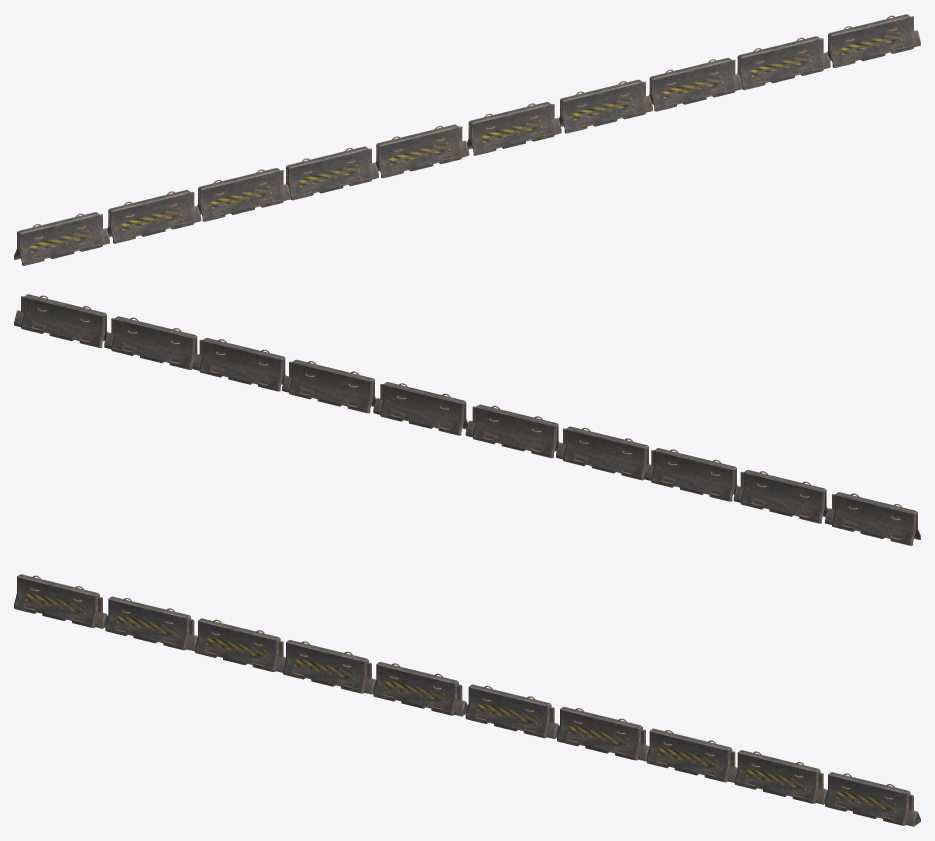
The model's file is barrera.glb.
3 renders of one model, top to bottom at view 1: azimuth 30°, elevation 25°; view 2: azimuth 150°, elevation 25°; view 3: azimuth 330°, elevation 25°, orthographic.
Parts seen in each view (by area): view 1: Box003.007, Box003.002, Box003.001, Box003.004, Box003.006, Box003.005, Box003.009, Box003.008, Box003, Box003.003; view 2: Box003.007, Box003.002, Box003.001, Box003.004, Box003.006, Box003.005, Box003.009, Box003.008, Box003, Box003.003; view 3: Box003.004, Box003.009, Box003.007, Box003.008, Box003.002, Box003.001, Box003.003, Box003.006, Box003.005, Box003.
Part boxes in pixels (x1,y1,x2,y2): Box003.007: [467, 102, 561, 155]; Box003.002: [14, 212, 109, 265]; Box003.001: [107, 190, 201, 243]; Box003.004: [375, 124, 469, 178]; Box003.006: [559, 79, 652, 133]; Box003.005: [649, 57, 742, 111]; Box003.009: [827, 14, 920, 67]; Box003.008: [737, 36, 830, 89]; Box003: [197, 168, 290, 221]; Box003.003: [285, 146, 378, 200]; Box003.007: [373, 382, 467, 435]; Box003.002: [825, 492, 920, 545]; Box003.001: [733, 470, 827, 523]; Box003.004: [465, 404, 559, 458]; Box003.006: [282, 359, 375, 413]; Box003.005: [192, 337, 285, 391]; Box003.009: [14, 294, 107, 347]; Box003.008: [104, 316, 197, 369]; Box003: [644, 448, 737, 501]; Box003.003: [556, 426, 649, 480]; Box003.004: [373, 662, 467, 716]; Box003.009: [825, 772, 920, 826]; Box003.007: [465, 684, 559, 738]; Box003.008: [734, 750, 827, 804]; Box003.002: [14, 574, 107, 628]; Box003.001: [105, 596, 197, 650]; Box003.003: [283, 640, 376, 694]; Box003.006: [557, 706, 649, 761]; Box003.005: [646, 728, 737, 782]; Box003: [194, 618, 285, 672].
Bounding box in the file's own units: 39.59 × 1.43 × 0.7484.
Materials: 1 (1 with a texture image).
